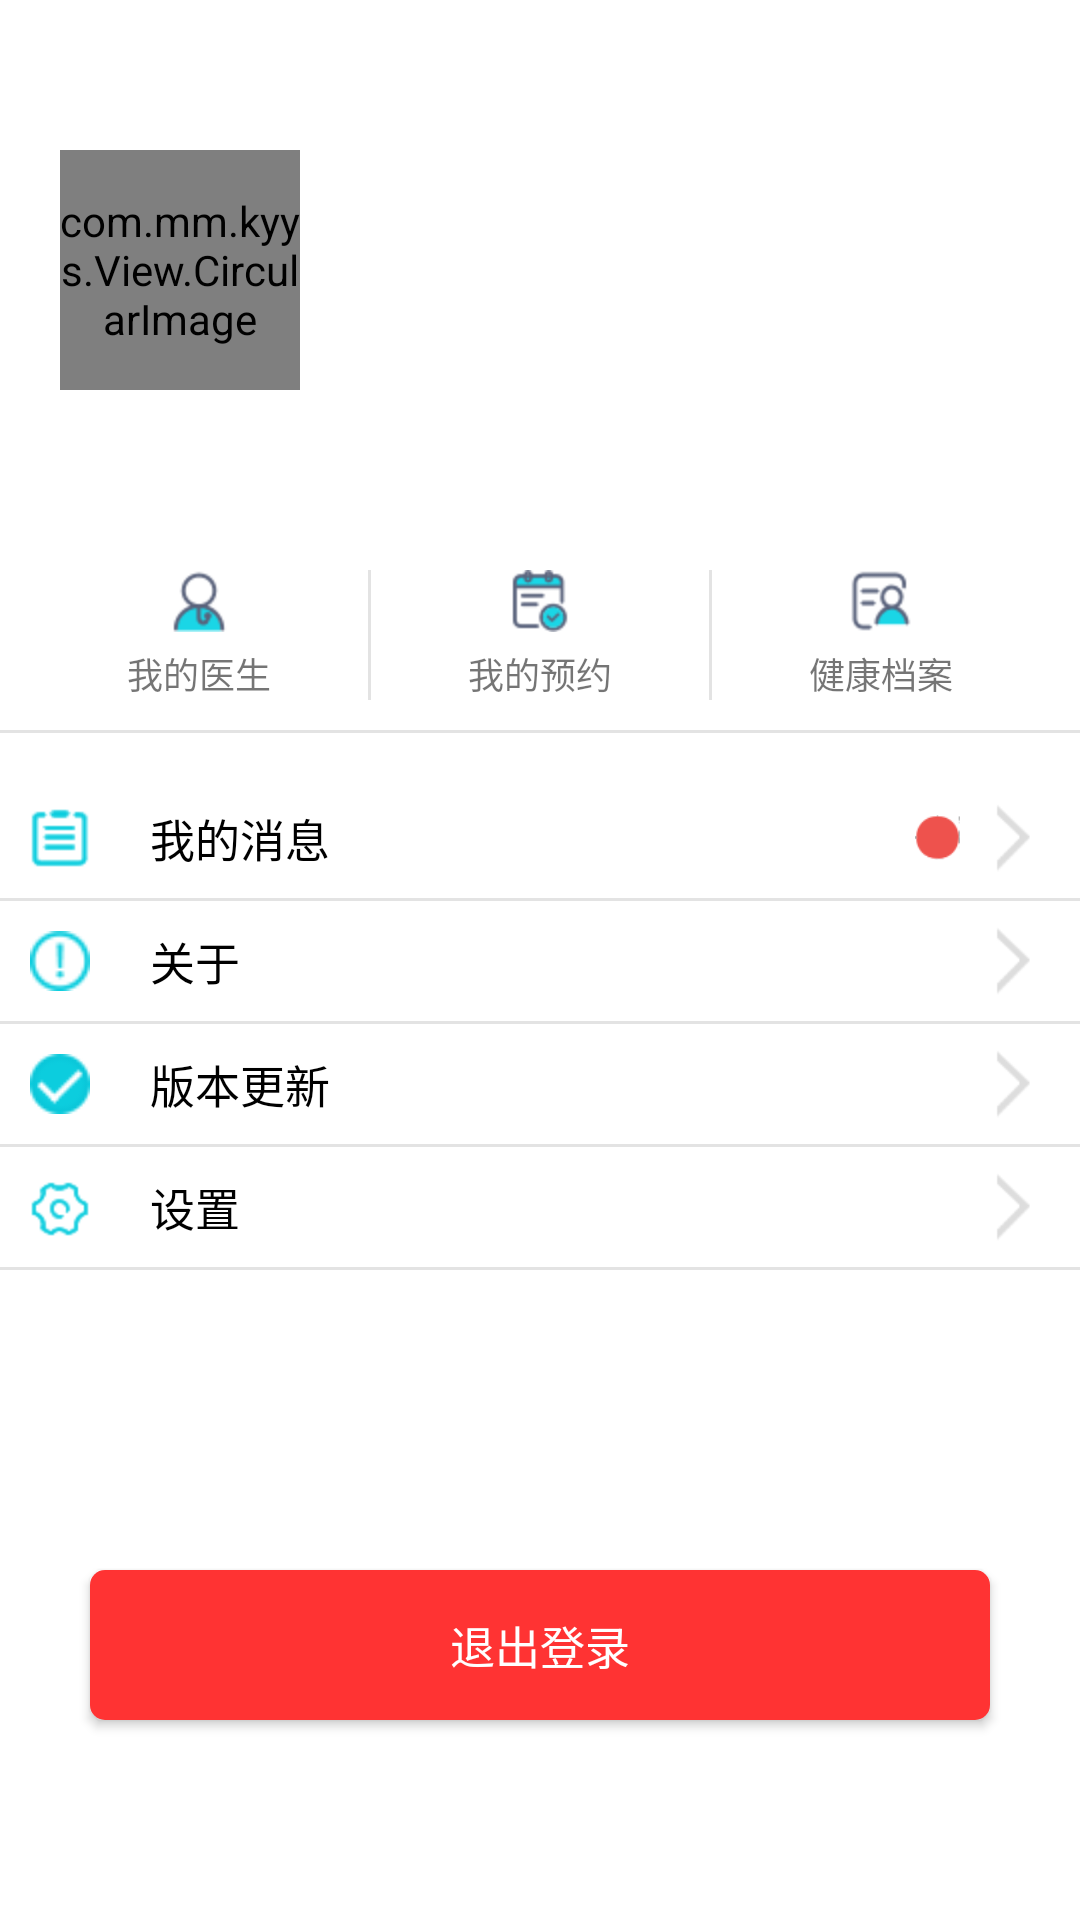

Screen size 1080×1920. Icon name, then its box in pixels as [x1, y1, x2, y2]:
care msg warning: [30, 931, 90, 991]
select true: [30, 1054, 90, 1114]
setting: [31, 1182, 89, 1236]
toright: [998, 807, 1029, 868], [998, 930, 1029, 991], [998, 1053, 1029, 1114], [998, 1176, 1029, 1237]
